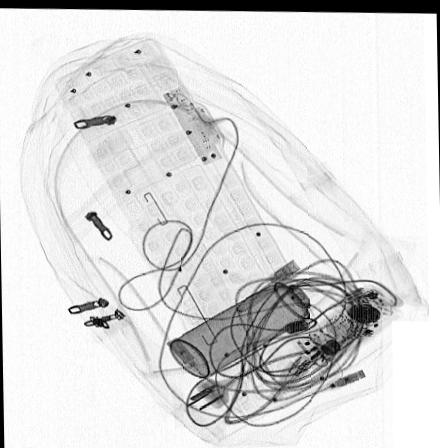Sprayer: (167, 257, 348, 377)
